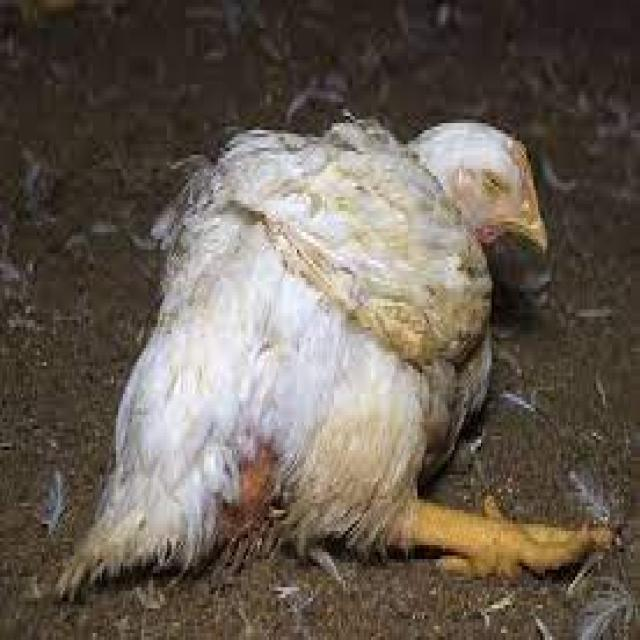AbNormal: (53, 118, 621, 596)
